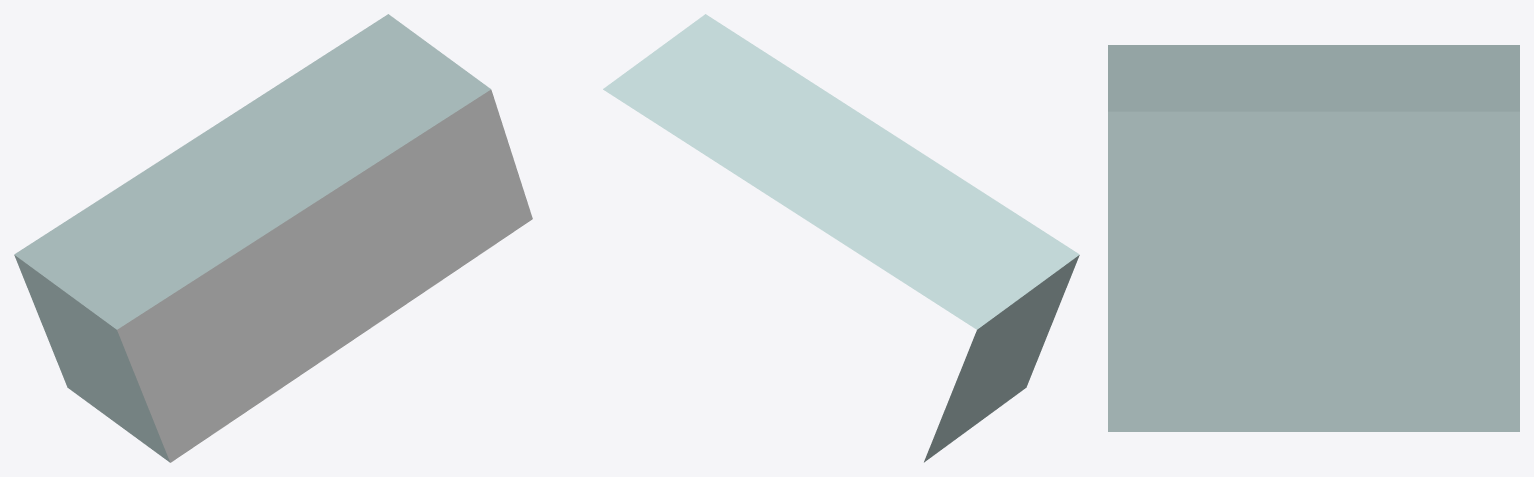
3 views of the same model, side by side, from view 1: azimuth 30°, elevation 25°; view 2: azimuth 150°, elevation 25°; view 3: azimuth 270°, elevation 25° (orthographic). The views are drawn at different scales.
Visible parts, largest first — view 1: 0_1_2_3_1_2_1_2_0; view 2: 0_1_2_3_1_2_1_2_0; view 3: 0_1_2_3_1_2_1_2_0.
Part boxes in pixels (box(x1,y1,x2,y2)): 0_1_2_3_1_2_1_2_0: box(14, 14, 532, 462); 0_1_2_3_1_2_1_2_0: box(603, 14, 1079, 462); 0_1_2_3_1_2_1_2_0: box(1108, 45, 1519, 431).
Size of the model in its own units: 7 by 4.75 by 3.
